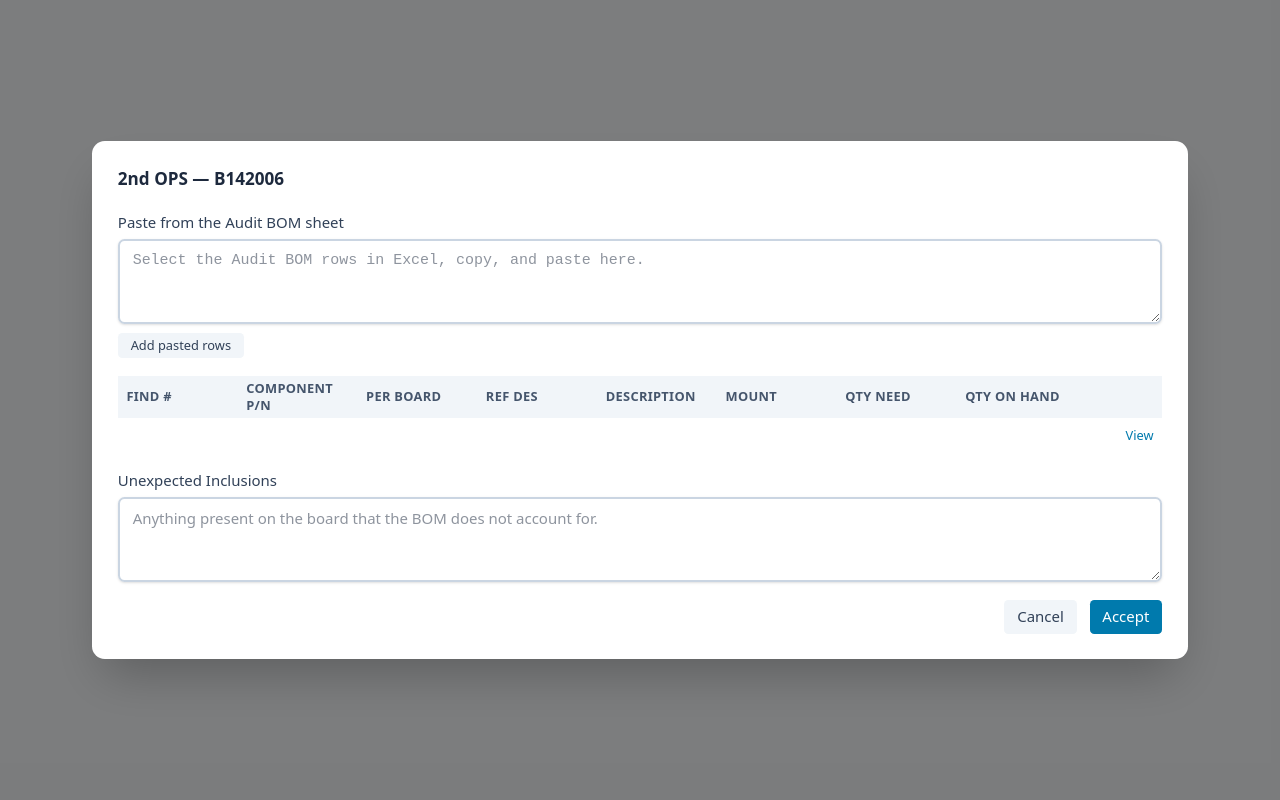
SecondOpsEntryModal › leaves ACCEPT disabled after a stale save, because retrying can never succeed
Click the button with test id "second-ops-accept-btn" at (1126, 617), box top-left (1090, 600), bottom-right (1162, 634)
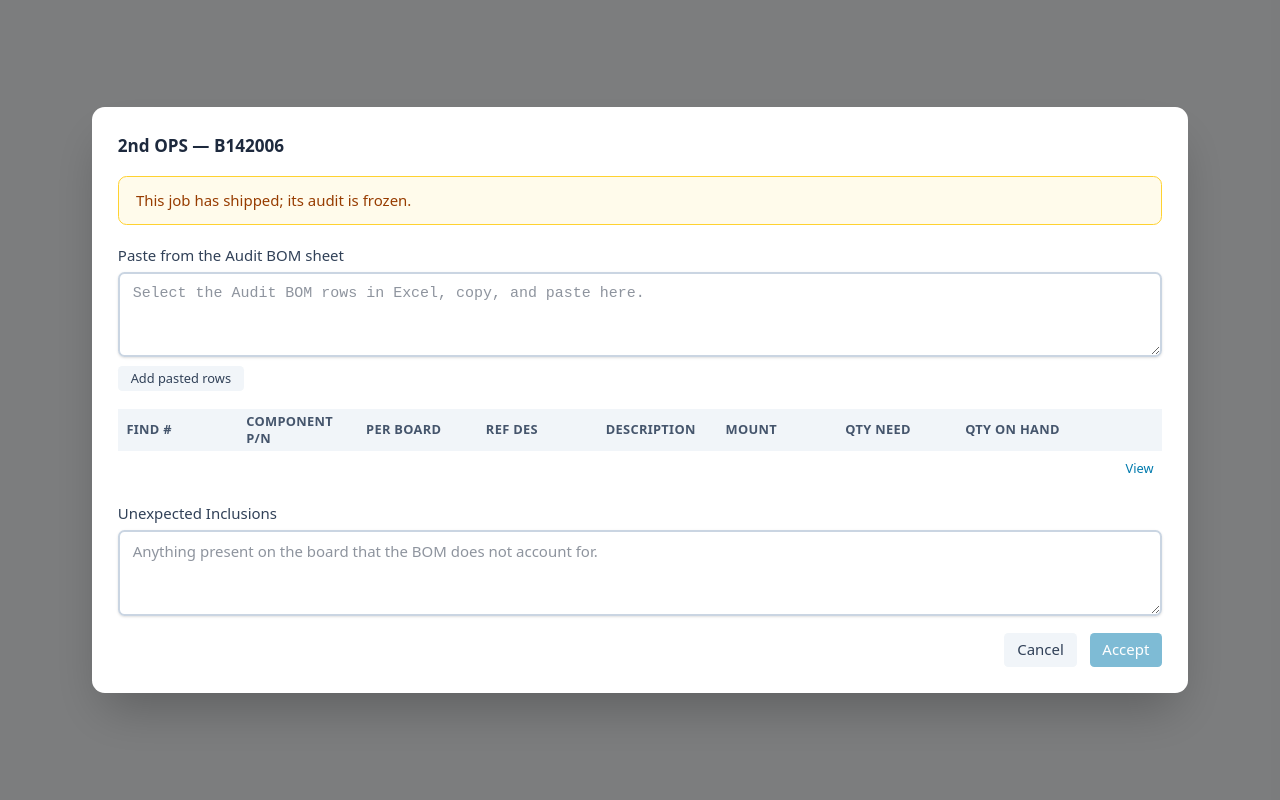
Check: the text with test id "second-ops-entry-banner-warn" shows "shipped", box top-left (136, 190), bottom-right (411, 210)
Check: the button with test id "second-ops-accept-btn" is disabled, box top-left (1090, 633), bottom-right (1162, 667)
